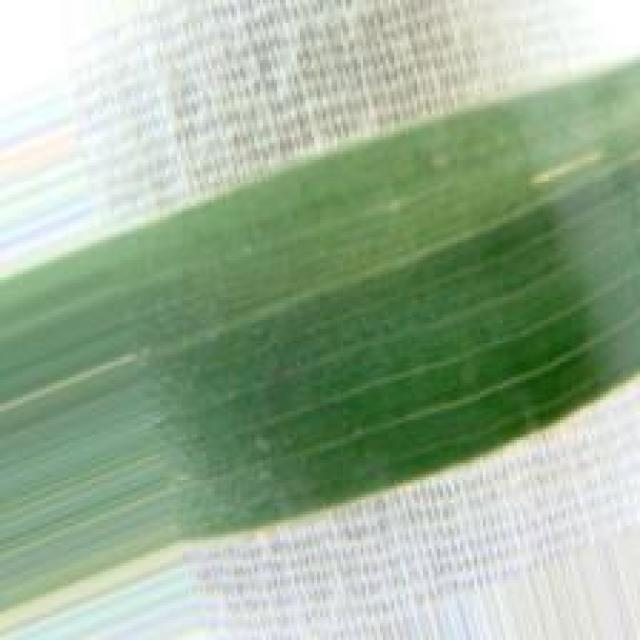Unhealthy: (524, 151, 601, 189)
